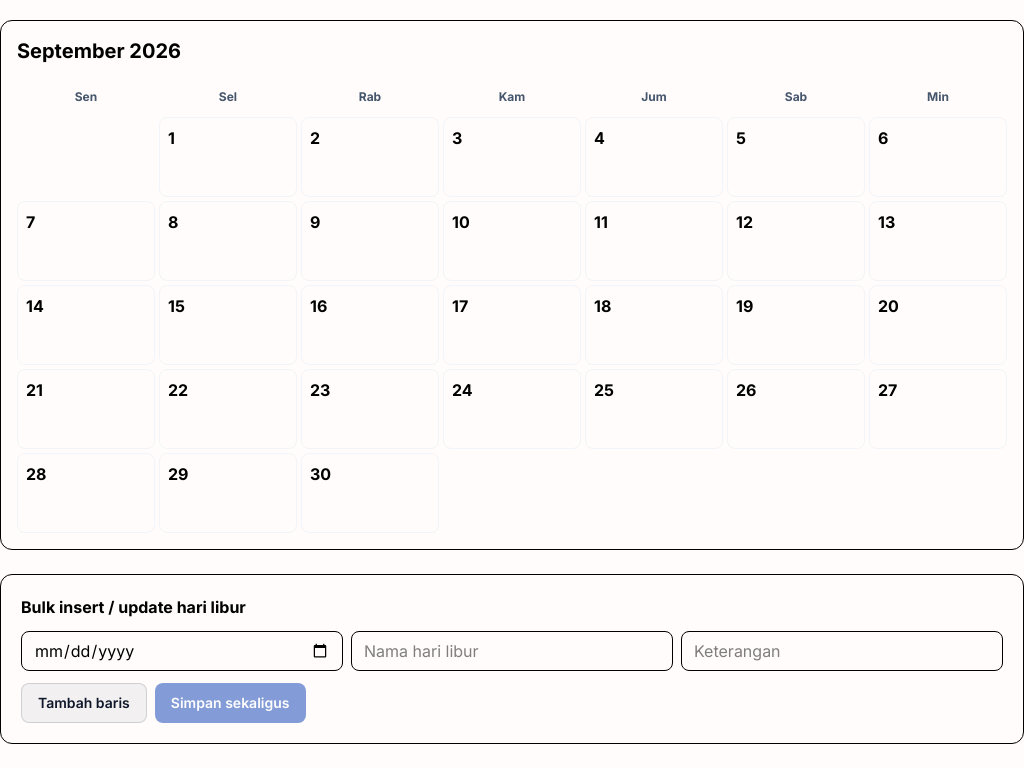
Test case: HolidayCalendarPage › trims and saves multiple holiday fields
This screenshot has width=1024, height=768.
(page scrolled)
Check: the button "Simpan sekaligus" is disabled, box [155,683,306,723]
Type "2026-08-17" into the date field named "Tanggal 1" at (182, 651), box [21,631,343,671]
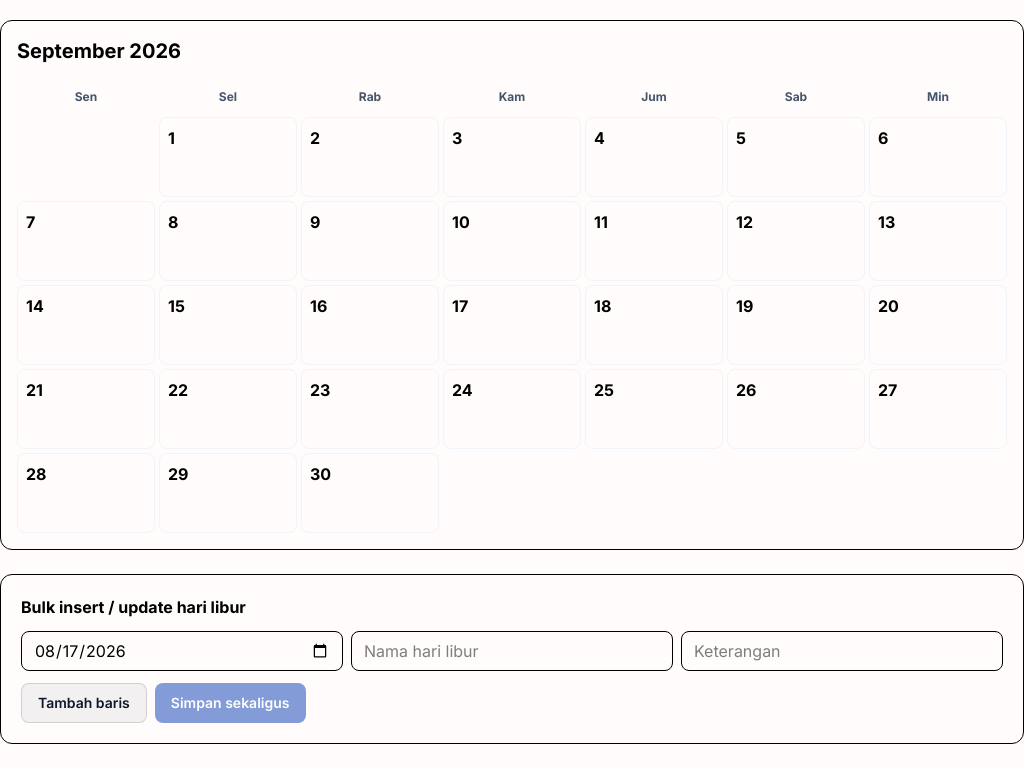
Type "  Hari Kemerdekaan  " into the field named "Nama 1" at (512, 651), box [351,631,673,671]
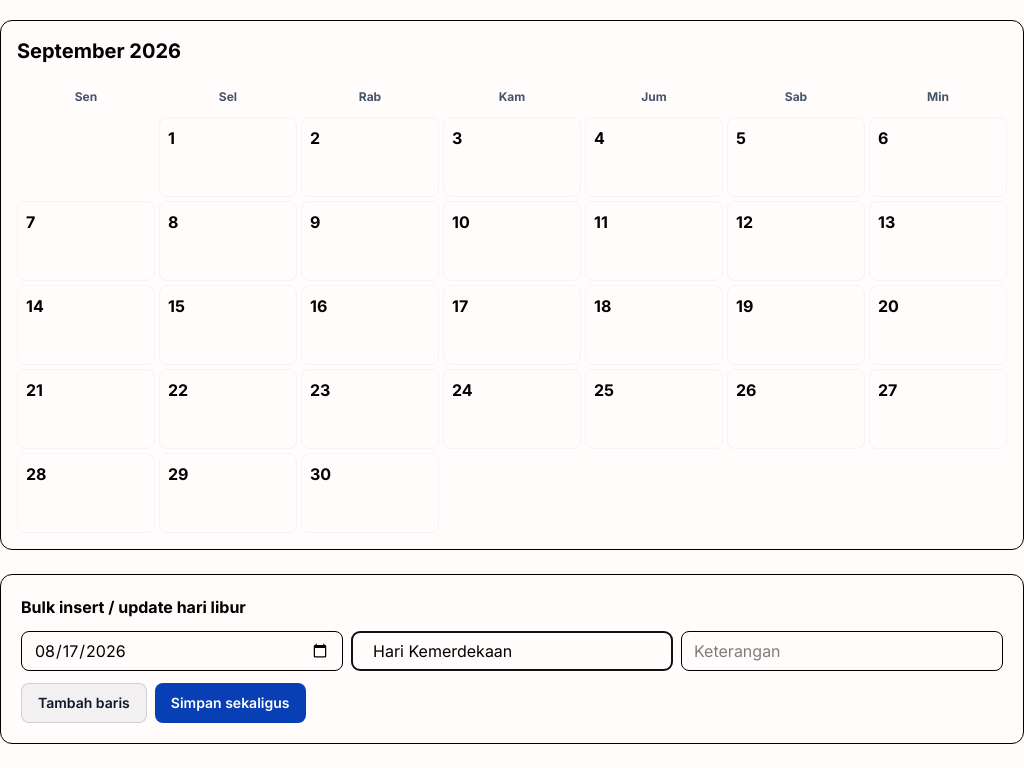
Type "  Libur nasional  " into the field named "Keterangan 1" at (842, 651), box [681,631,1003,671]
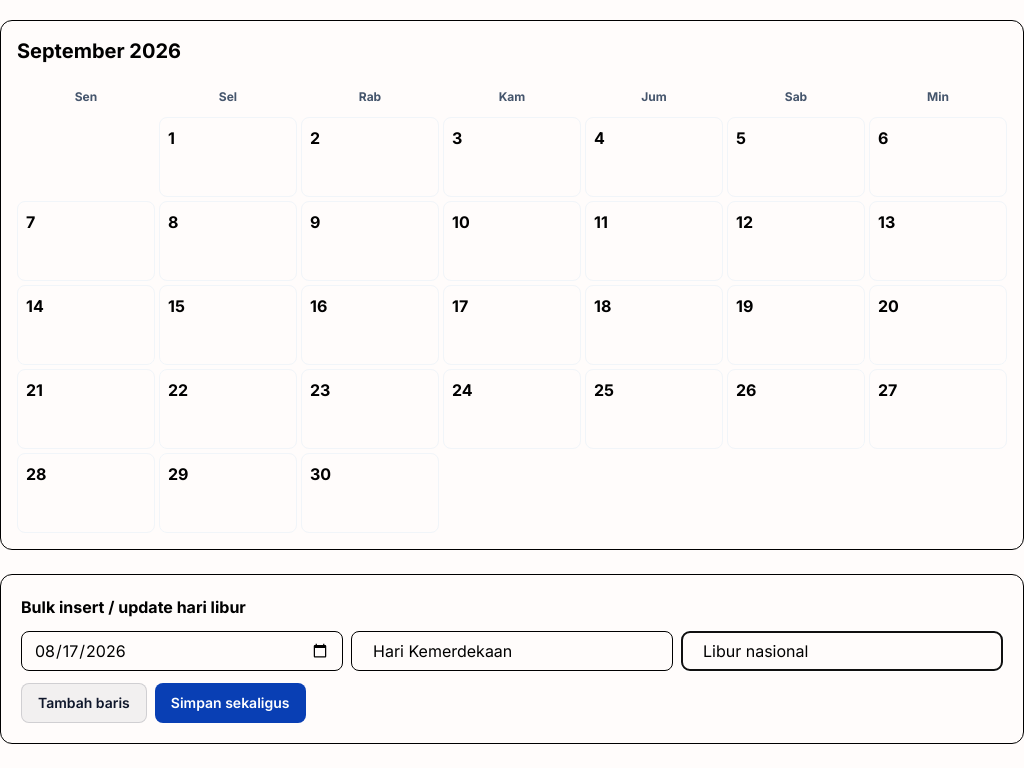
Click the button "Simpan sekaligus" at (230, 703), box [155,683,306,723]
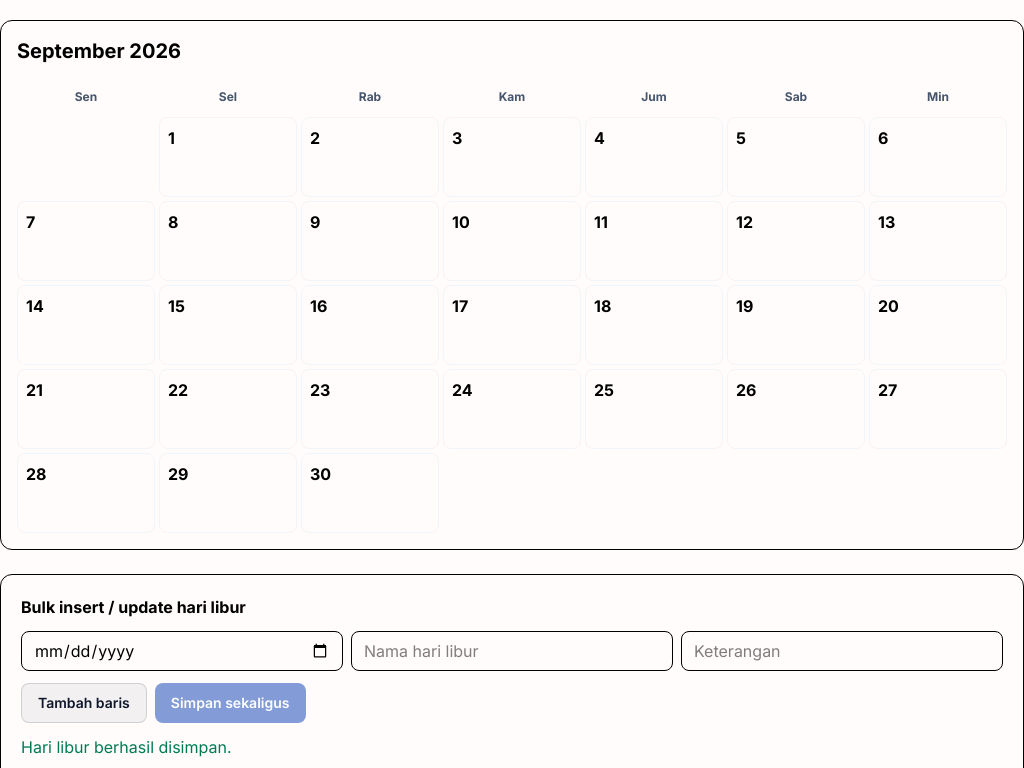
Check: the text "Hari libur berhasil disimpan." is shown, box [21,737,232,757]
